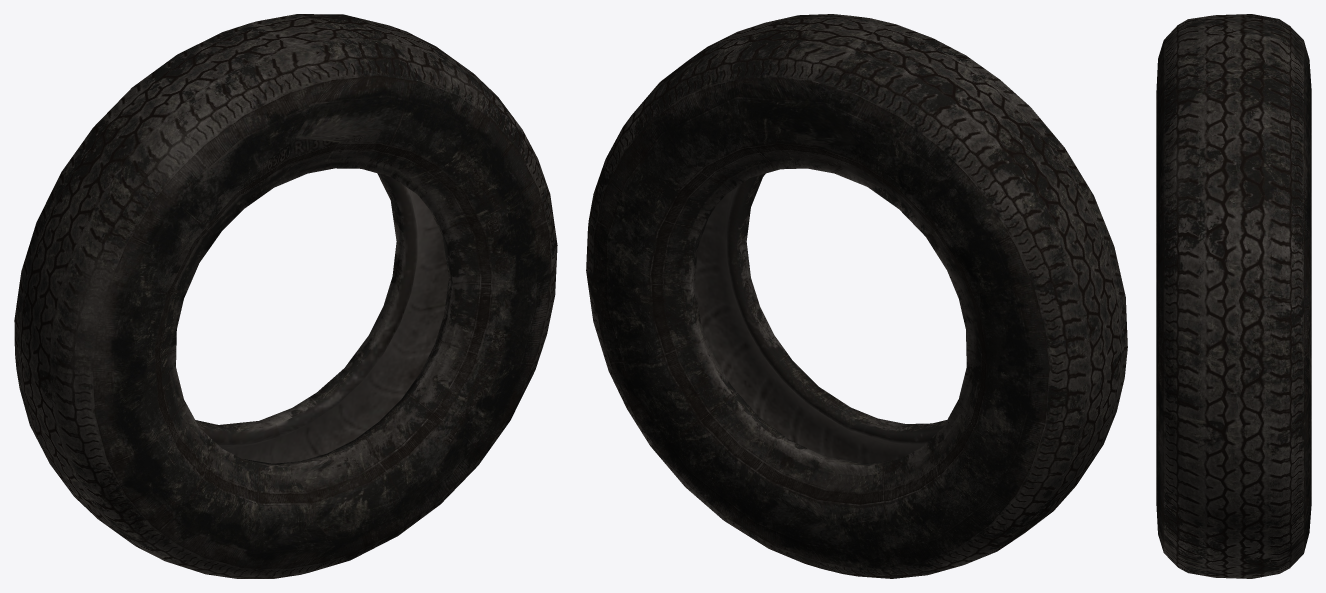
The model's file is オールドタイヤ.fbx.
3 views of the same model, side by side, from view 1: azimuth 30°, elevation 25°; view 2: azimuth 150°, elevation 25°; view 3: azimuth 270°, elevation 25° (orthographic). The views are drawn at different scales.
Visible parts, largest first — view 1: old_tyre; view 2: old_tyre; view 3: old_tyre.
Part boxes in pixels (bbox=[...]): old_tyre: bbox=[14, 14, 557, 578]; old_tyre: bbox=[586, 14, 1127, 578]; old_tyre: bbox=[1156, 14, 1311, 578].
Bounding box in the file's own units: 59.99 × 59.99 × 16.5.
